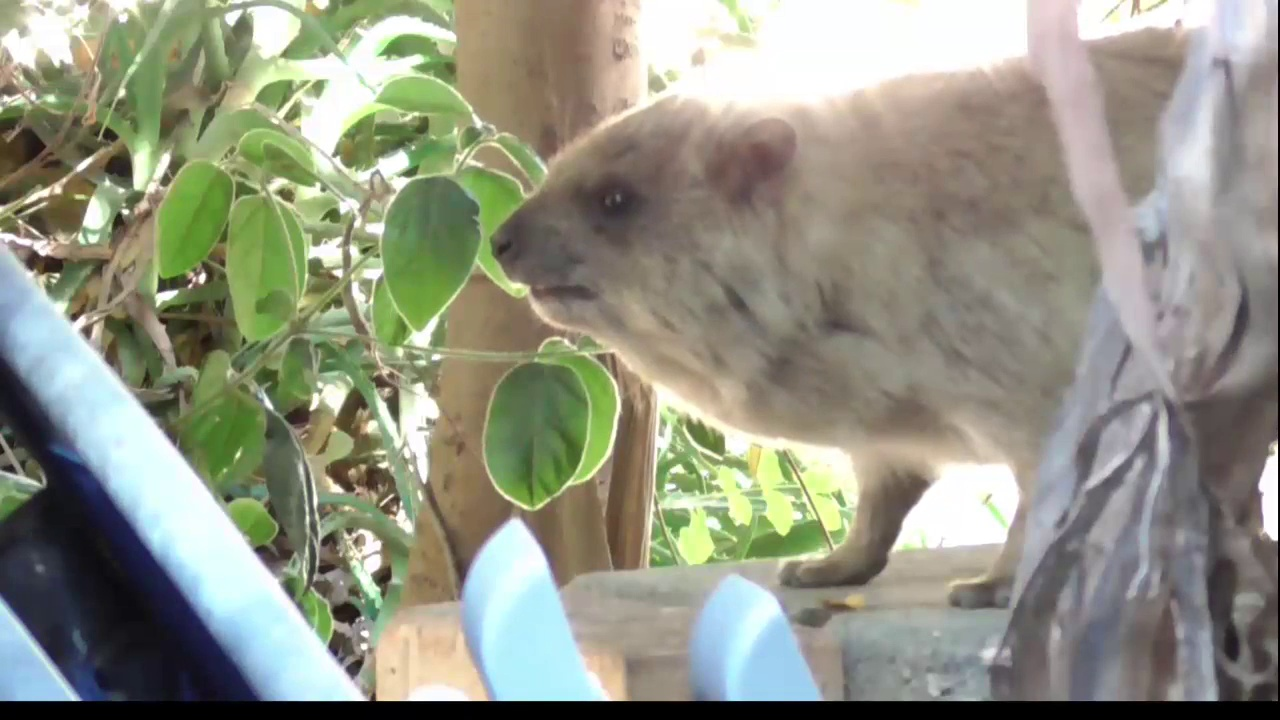Rock Hyrex: (490, 22, 1280, 617)
